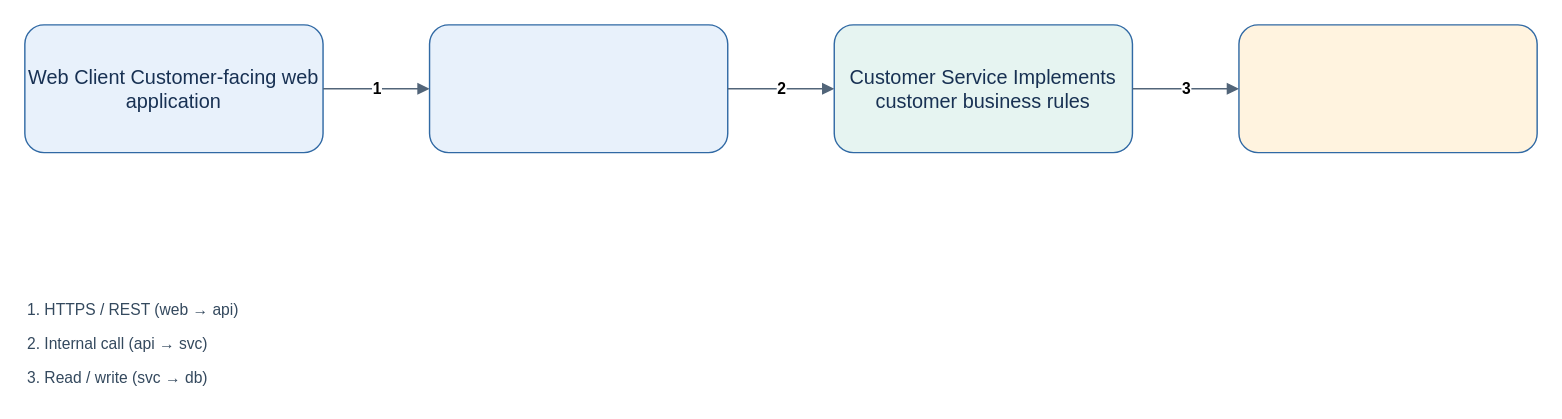
The diagram is 1562 pixels wide and 419 high, and some of its shapes have lost their labels. The shapes that lost their labels are listed below. From the top down, each one's centre as x and y in pixels, then its label:
At [578,88]: "Customer API Exposes customer REST endpoints".
At [1387,88]: "Customer Database Stores customer records".
